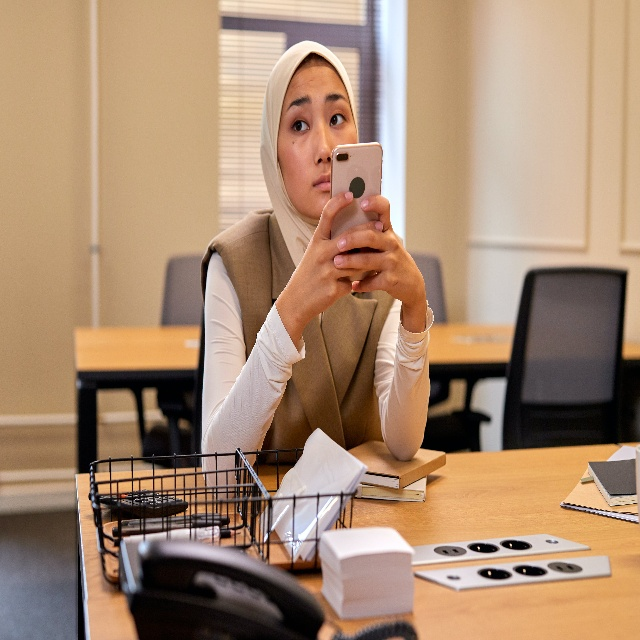Sin_guantes: (276, 191, 383, 327), (334, 193, 426, 305)
